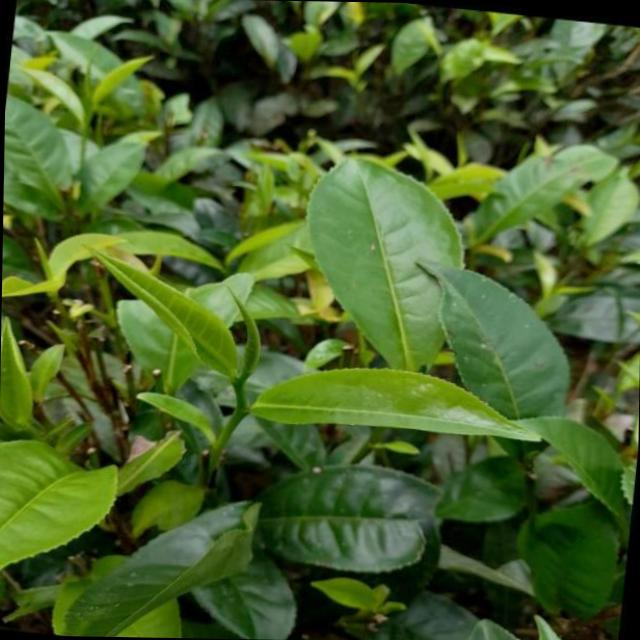Stem: (231, 381, 244, 393)
